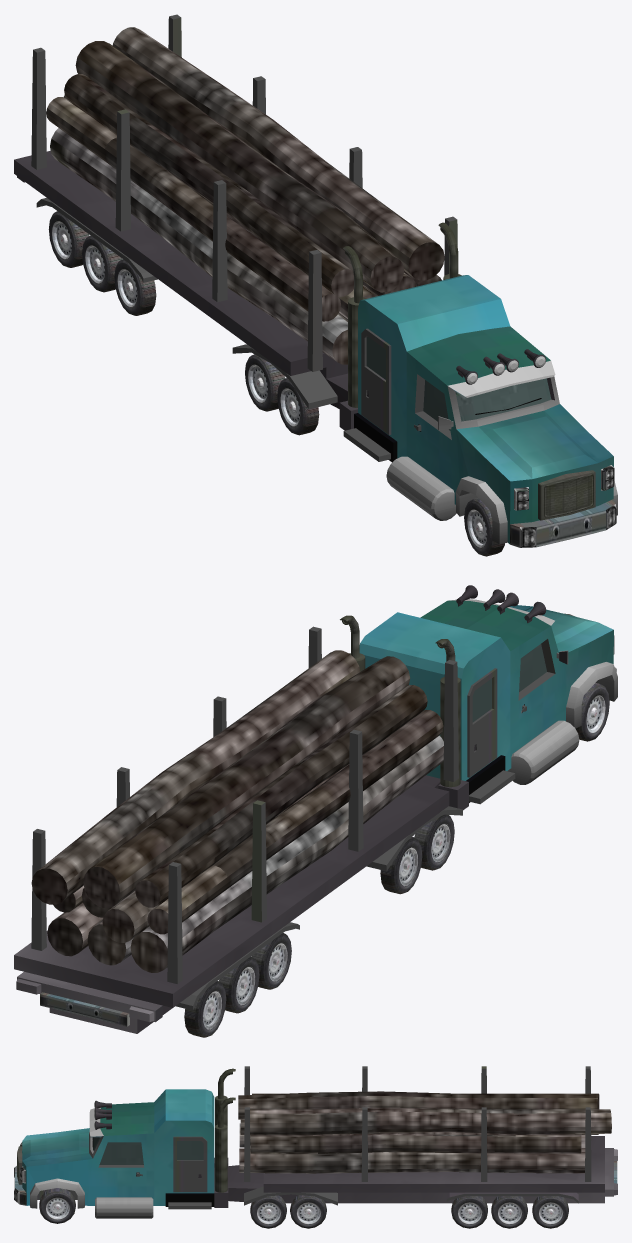
3 renders of one model, top to bottom at view 1: azimuth 30°, elevation 25°; view 2: azimuth 150°, elevation 25°; view 3: azimuth 270°, elevation 25°, orthographic. The views are drawn at different scales.
Parts seen in each view (by area): view 1: DN118_Xe0.001; view 2: DN118_Xe0.001; view 3: DN118_Xe0.001.
Part boxes in pixels (<box>): DN118_Xe0.001: <box>14,14,617,556</box>; DN118_Xe0.001: <box>14,585,617,1037</box>; DN118_Xe0.001: <box>14,1066,617,1228</box>.
Bounding box in the file's own units: 2.41 × 2.91 × 12.84.
1 material, 1 textured.
